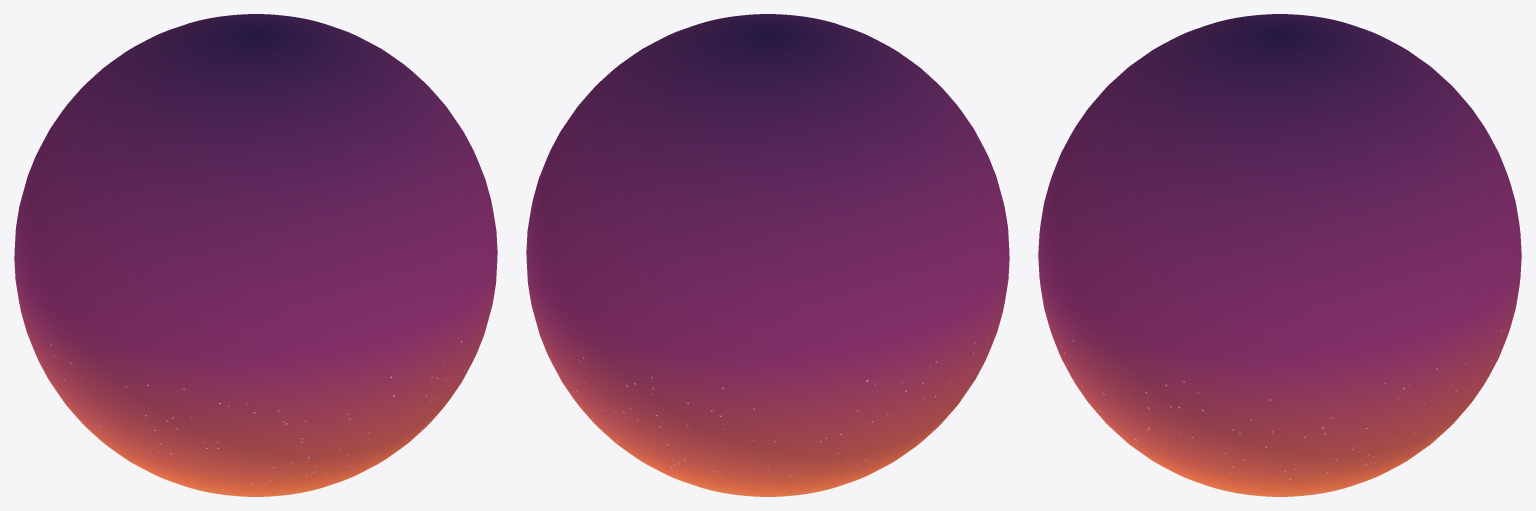
The model's file is hyderabad-uncompressed.glb.
The picture shows the model from 3 angles, left to right: view 1: azimuth 30°, elevation 25°; view 2: azimuth 150°, elevation 25°; view 3: azimuth 270°, elevation 25°; orthographic projection.
Visible parts, largest first — view 1: SkyDome; view 2: SkyDome; view 3: SkyDome.
Part boxes in pixels (x1,y1,x2,y2): SkyDome: (14, 14, 497, 496); SkyDome: (526, 14, 1009, 496); SkyDome: (1038, 14, 1521, 496).
Bounding box in the file's own units: 2400 × 2400 × 2400.
Materials: 72 (6 with a texture image).
